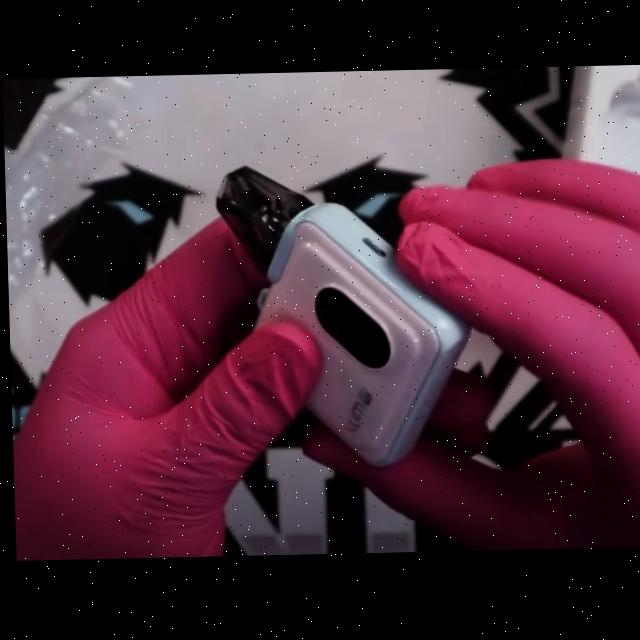vape: (213, 162, 472, 474)
